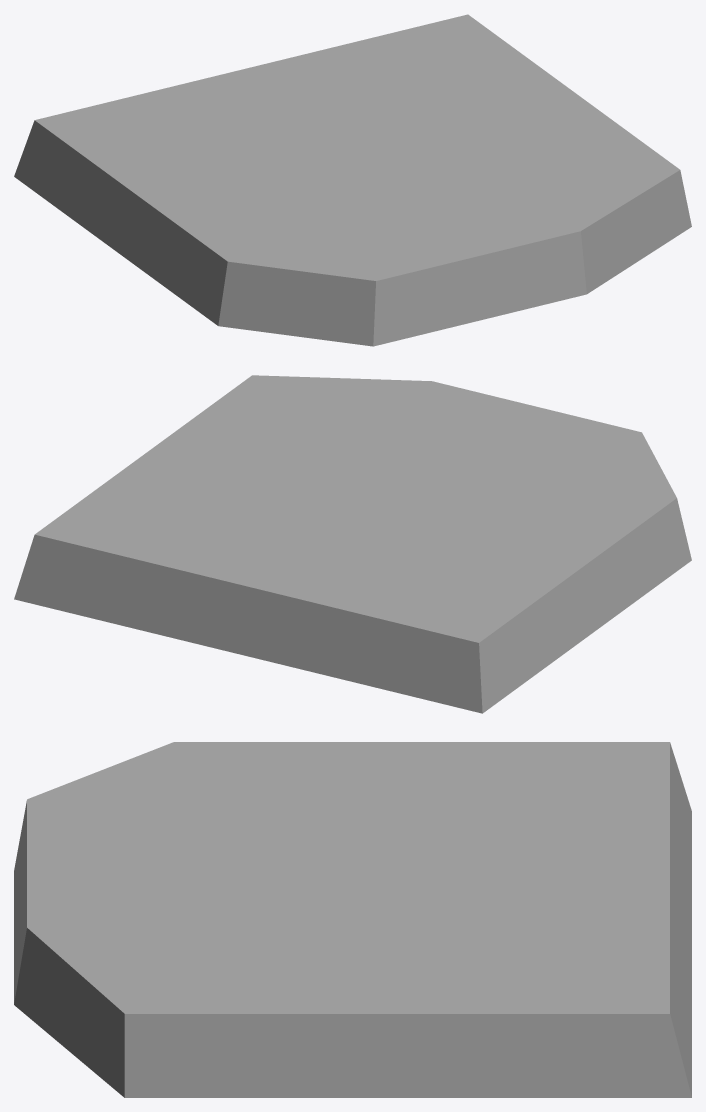
File: Rock_Tile_m_04.fbx
3 views of the same model, one above another, from view 1: azimuth 30°, elevation 25°; view 2: azimuth 150°, elevation 25°; view 3: azimuth 270°, elevation 25° (orthographic). The views are drawn at different scales.
Visible parts, largest first — view 1: Rock_Tile_m_04; view 2: Rock_Tile_m_04; view 3: Rock_Tile_m_04.
Part boxes in pixels (x1=…): Rock_Tile_m_04: x1=14, y1=14, x2=691, y2=346; Rock_Tile_m_04: x1=14, y1=375, x2=691, y2=713; Rock_Tile_m_04: x1=14, y1=742, x2=691, y2=1097.
Bounding box in the file's own units: 40 × 5 × 40.
